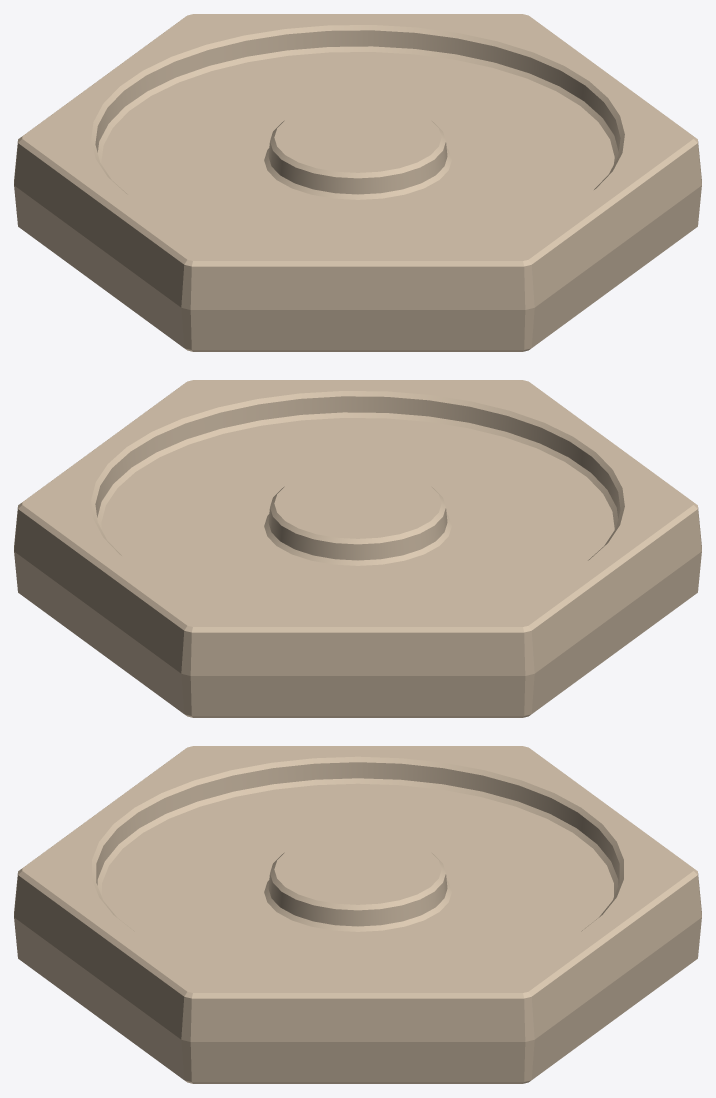
Rendered from tile_white.glb.
3 views of the same model, one above another, from view 1: azimuth 30°, elevation 25°; view 2: azimuth 150°, elevation 25°; view 3: azimuth 270°, elevation 25° (orthographic).
Parts seen in each view (by area): view 1: Node1; view 2: Node1; view 3: Node1.
Part boxes in pixels (bbox=[...]): Node1: bbox=[14, 14, 701, 351]; Node1: bbox=[14, 380, 701, 717]; Node1: bbox=[14, 746, 701, 1083].
Bounding box in the file's own units: 1.5 × 0.25 × 1.72.
